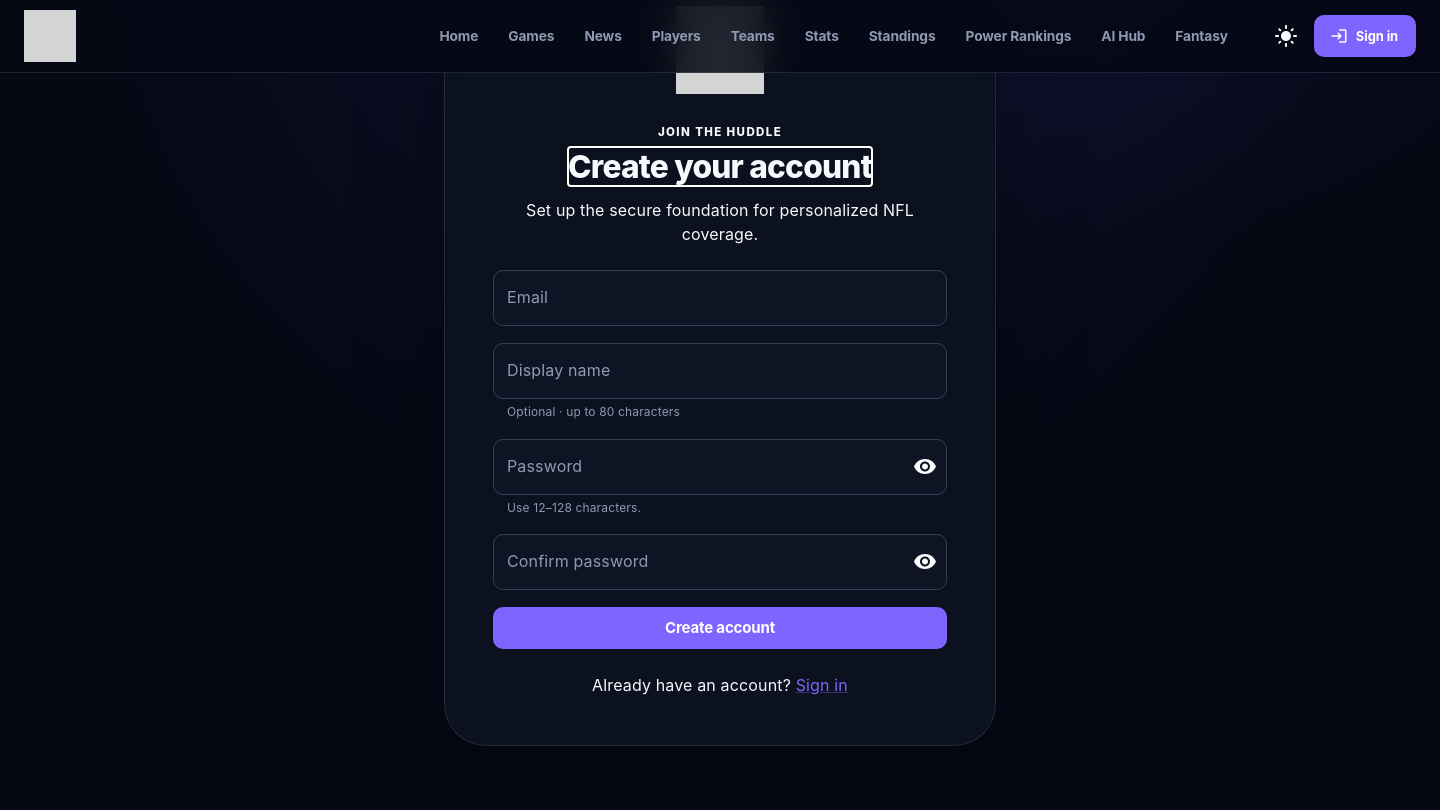
registration › shows frontend validation before sending an invalid registration
The width and height of the screenshot is (1440, 810).
(page scrolled)
Click the button "Create account" at (720, 628), box [493,607,947,650]
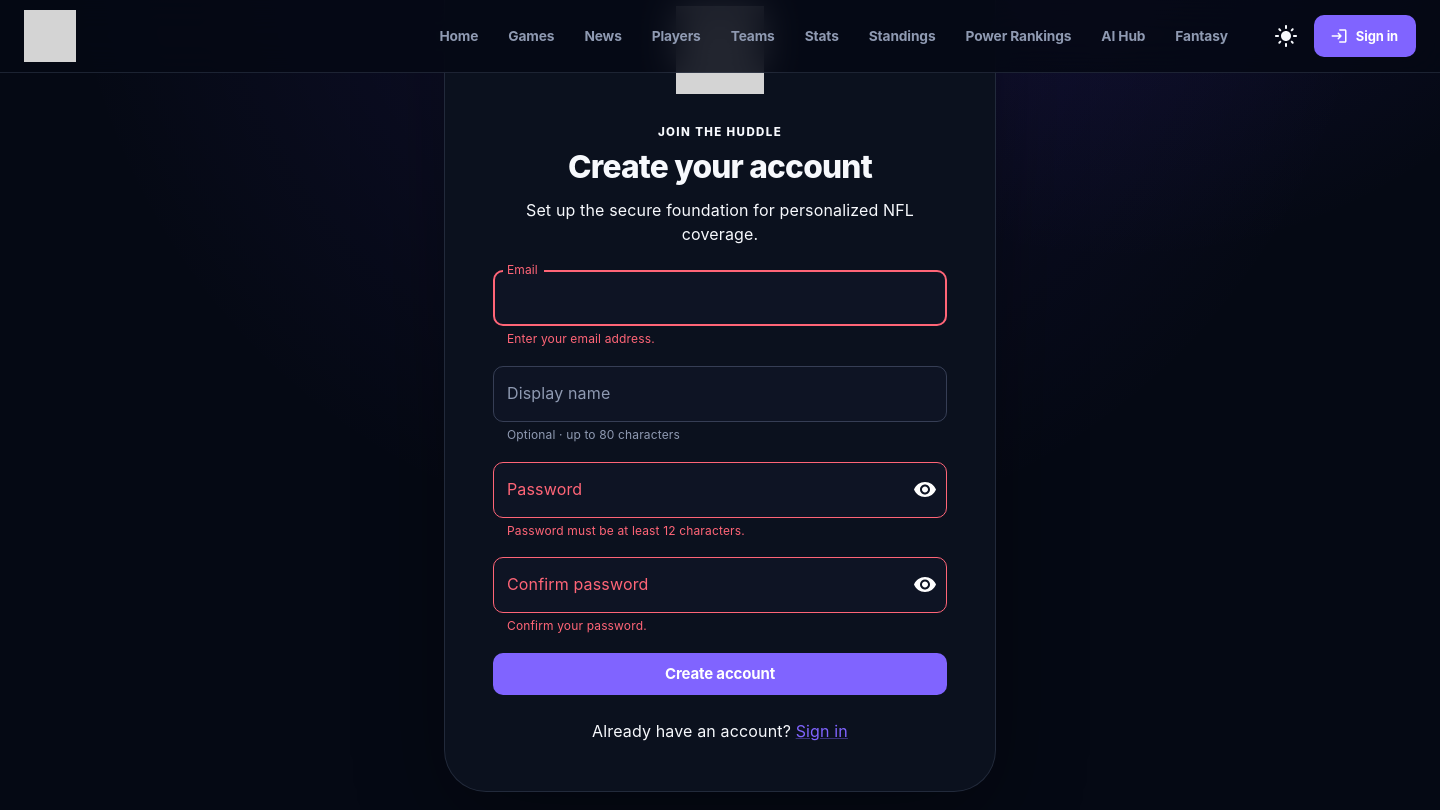
Expected: the text "Enter your email address." is shown, [507,331,655,346]
Expected: the text "Password must be at least 12 characters." is shown, [507,523,745,538]
